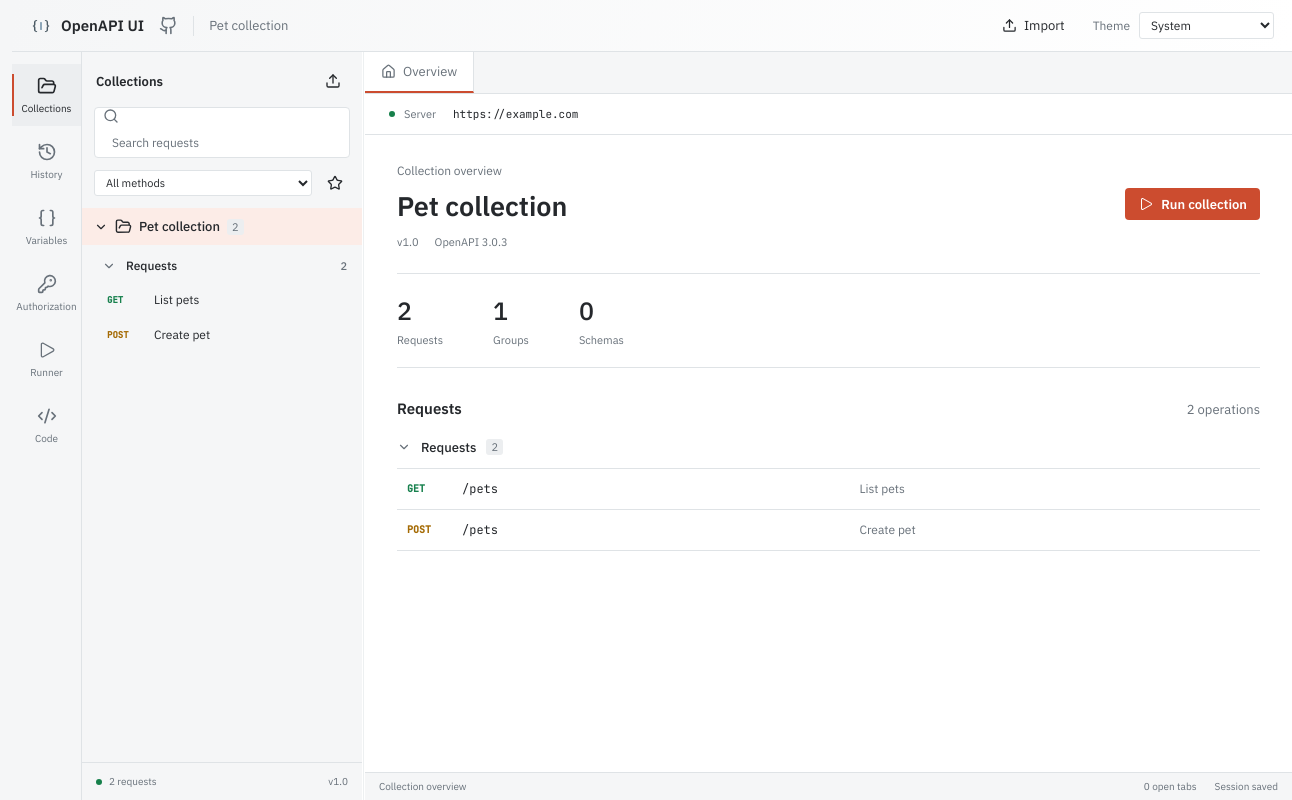
Test: React workspace › explains how to use variables
Click the button "Variables".
click(46, 227)  # box x1=12 y1=196 x2=81 y2=258
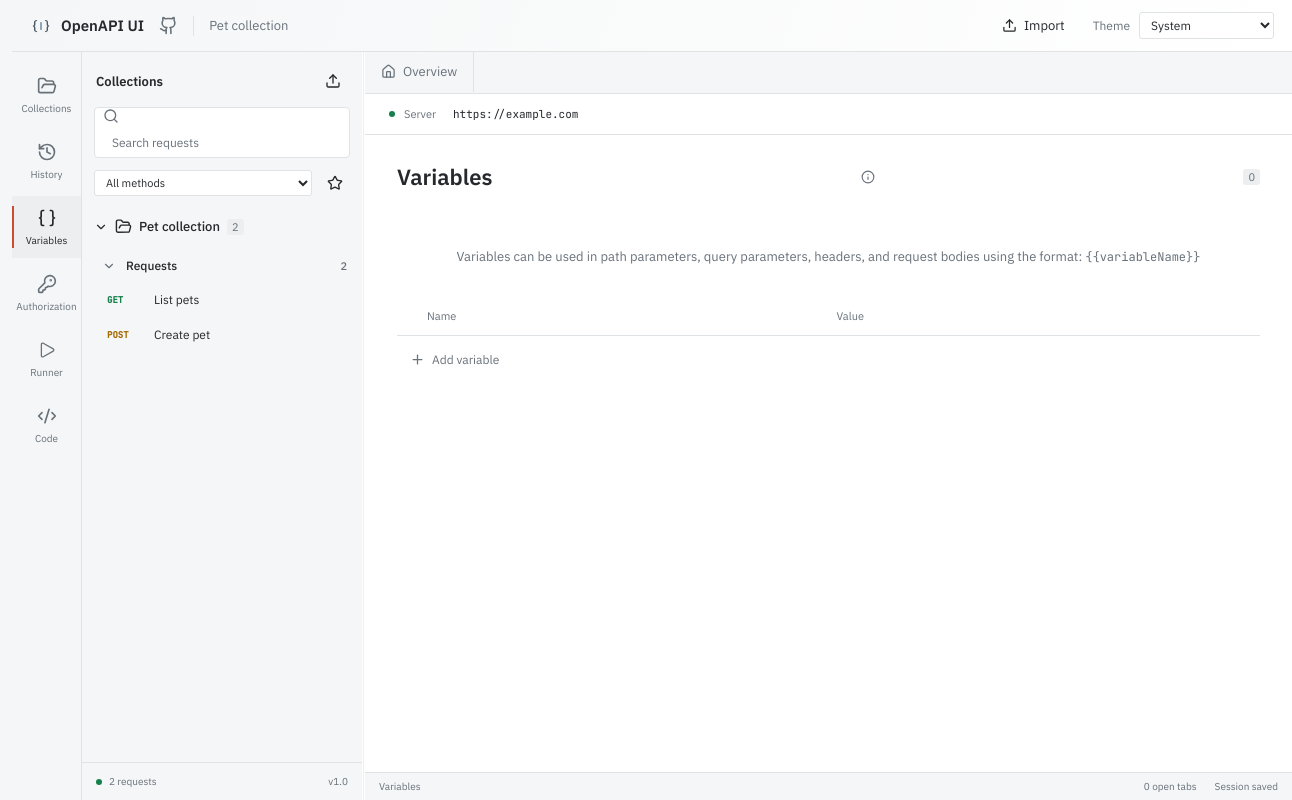
Expected: the text "Variables can be used in path parameters, query parameters, headers, and request bodies" is shown, x1=456 y1=248 x2=1085 y2=265
Expected: the text "{{variableName}}" is shown, x1=1085 y1=249 x2=1200 y2=265
